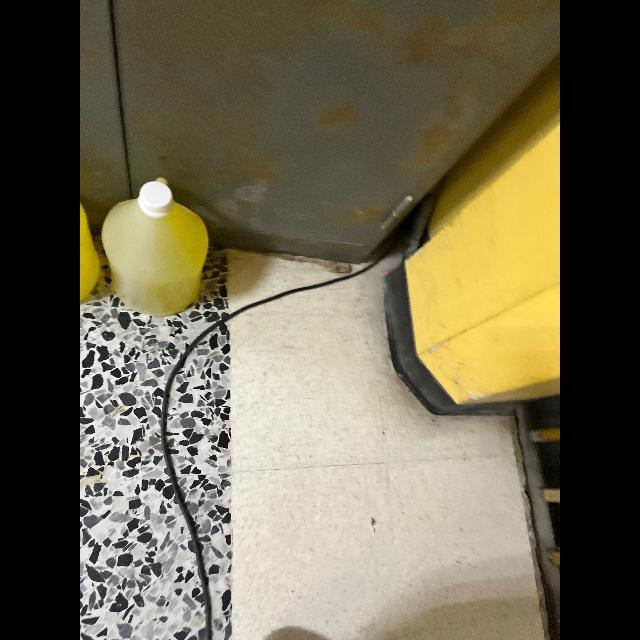chemical_plastic_gallon: (91, 182, 229, 322)
